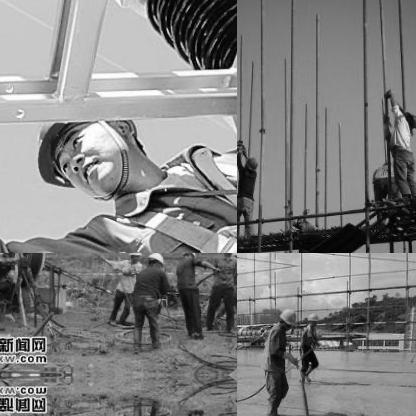Helmet: (9, 110, 163, 198), (278, 305, 298, 331), (238, 152, 258, 172), (399, 107, 415, 132), (143, 253, 165, 268), (306, 312, 318, 326), (179, 253, 197, 262), (125, 253, 141, 263), (229, 253, 236, 261)
